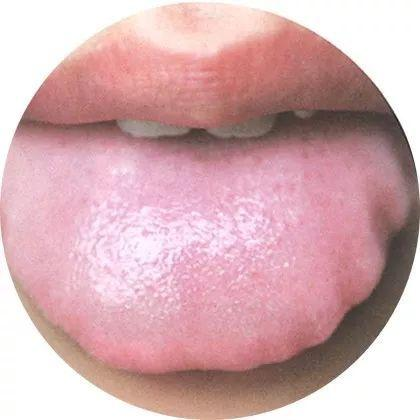baitaishe: (1, 115, 416, 374)
chihenshe: (325, 187, 416, 340)
